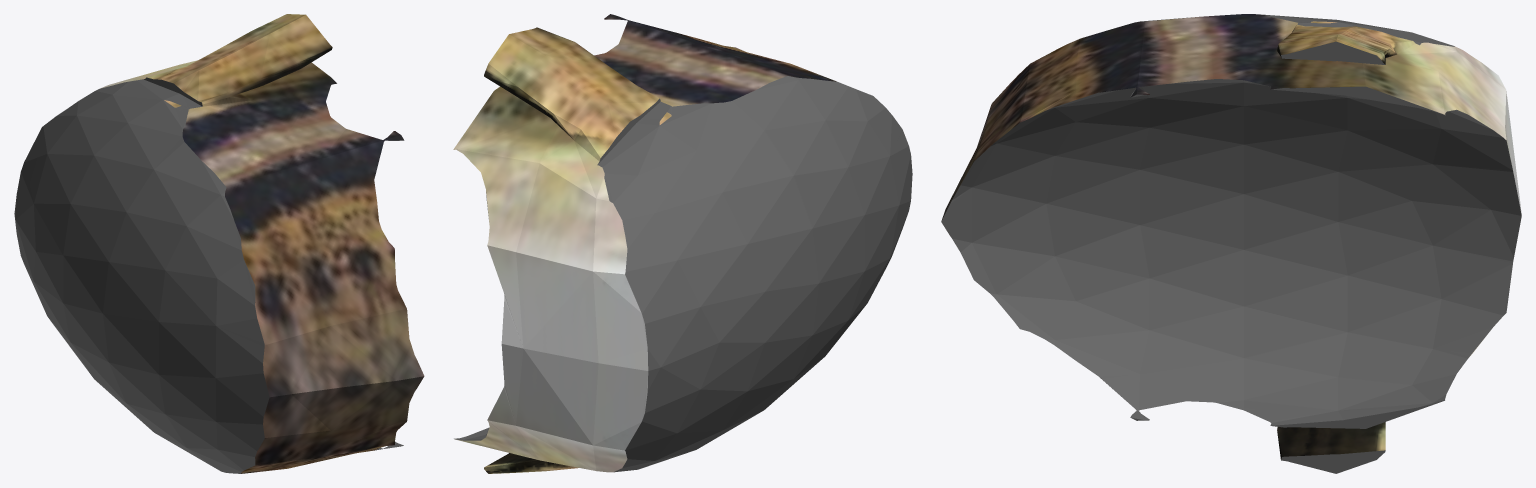
The picture shows the model from 3 angles, left to right: view 1: azimuth 30°, elevation 25°; view 2: azimuth 150°, elevation 25°; view 3: azimuth 270°, elevation 25°; orthographic projection. The views are drawn at different scales.
Parts seen in each view (by area): view 1: link_2_visual; view 2: link_2_visual; view 3: link_2_visual.
Part boxes in pixels (box(x1,y1,x2,y2)): link_2_visual: box(14, 14, 424, 473); link_2_visual: box(453, 14, 912, 473); link_2_visual: box(941, 14, 1521, 473).
Bounding box in the file's own units: 0.00161 × 0.00256 × 0.00312.
Materials: 1 (1 with a texture image).
